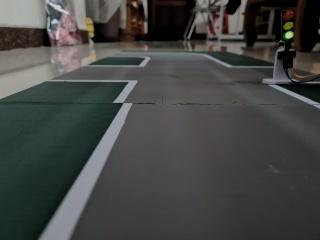green: (275, 5, 298, 48)
